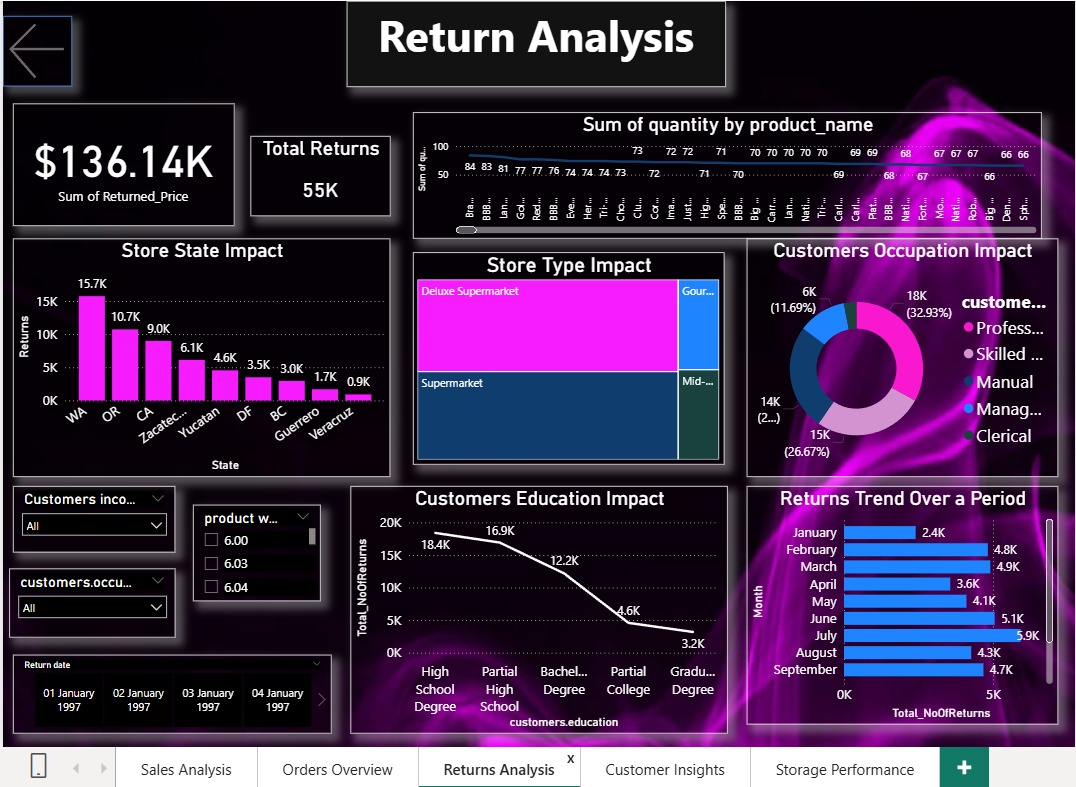

Layout of this report page (visuals, bound fields, positions):
{"tool":"powerbi","page":{"name":"Returns Analysis","canvas":[1316,916],"ordinal":2},"visuals":[{"type":"cardVisual","title":"Total Returns","fields":{"Data":["returns.Total_NoOfReturns"]},"box":[303.9,165.8,171.9,98.2],"z":0},{"type":"treemap","title":"Store Type Impact","fields":{"Group":["returns.stores.store_type"],"Values":["returns.Total_NoOfReturns"]},"box":[503.4,308.5,382.2,260.9],"z":1000},{"type":"donutChart","title":"Customers Occupation Impact","fields":{"Category":["returns.customers.occupation"],"Y":["returns.Total_NoOfReturns"]},"box":[913.2,291.6,382.2,293.2],"z":2000},{"type":"lineChart","title":"Customers Education Impact","fields":{"Category":["returns.customers.education"],"Y":["returns.Total_NoOfReturns"]},"box":[426.7,595.5,463.5,303.9],"z":3000},{"type":"clusteredColumnChart","title":"Store State Impact","fields":{"Y":["returns.Total_NoOfReturns"],"Category":["returns.stores.store_state"]},"box":[12.3,291.6,463.5,293.2],"z":4000},{"type":"textbox","box":[421.6,0,465.3,105.8],"z":5000},{"type":"actionButton","box":[0,19,84.6,86.4],"z":6000},{"type":"barChart","title":"Returns Trend Over a Period","fields":{"Category":["returns.return_date.Variation.Date Hierarchy.Year","returns.return_date.Variation.Date Hierarchy.Quarter","returns.return_date.Variation.Date Hierarchy.Month","returns.return_date.Variation.Date Hierarchy.Day"],"Y":["returns.Total_NoOfReturns"]},"box":[913.2,595.5,382.2,293.2],"z":7000},{"type":"slicer","title":"Product Weight","fields":{"Values":["products.product_weight"]},"box":[233.3,618.5,156.6,118.2],"z":8000},{"type":"slicer","title":" Occupation","fields":{"Values":["returns.customers.occupation"]},"box":[7.7,696.8,204.1,84.4],"z":9000},{"type":"slicer","title":"Customer Income","fields":{"Values":["returns.customers.yearly_income"]},"box":[12.3,595.5,199.5,81.3],"z":10000},{"type":"lineChart","fields":{"Category":["products.product_name"],"Y":["Sum(transactions.quantity)"]},"box":[503.4,136.6,772,155],"z":11000},{"type":"card","fields":{"Values":["Sum(returns.Returned_Price)"]},"box":[12.3,125.9,271.7,150.4],"z":12000},{"type":"slicer","fields":{"Values":["returns.return_date"]},"box":[12.3,802.7,391.4,96.7],"z":13000}]}

Visuals, with their boxes in screenshot pixels (x1, y1, x2, y2):
"Total Returns" cardVisual: bbox=(243, 133, 387, 215)
"Store Type Impact" treemap: bbox=(410, 252, 729, 470)
"Customers Occupation Impact" donutChart: bbox=(752, 238, 1072, 483)
"Customers Education Impact" lineChart: bbox=(345, 492, 733, 746)
"Store State Impact" clusteredColumnChart: bbox=(0, 238, 387, 483)
textbox: bbox=(341, 0, 730, 83)
actionButton: bbox=(0, 10, 60, 83)
"Returns Trend Over a Period" barChart: bbox=(752, 492, 1072, 737)
"Product Weight" slicer: bbox=(184, 511, 315, 610)
" Occupation" slicer: bbox=(0, 577, 166, 647)
"Customer Income" slicer: bbox=(0, 492, 166, 560)
lineChart - products.product_name x Sum(transactions.quantity): bbox=(410, 109, 1055, 238)
card - Sum(returns.Returned_Price): bbox=(0, 100, 226, 225)
slicer - returns.return_date: bbox=(0, 665, 326, 746)
